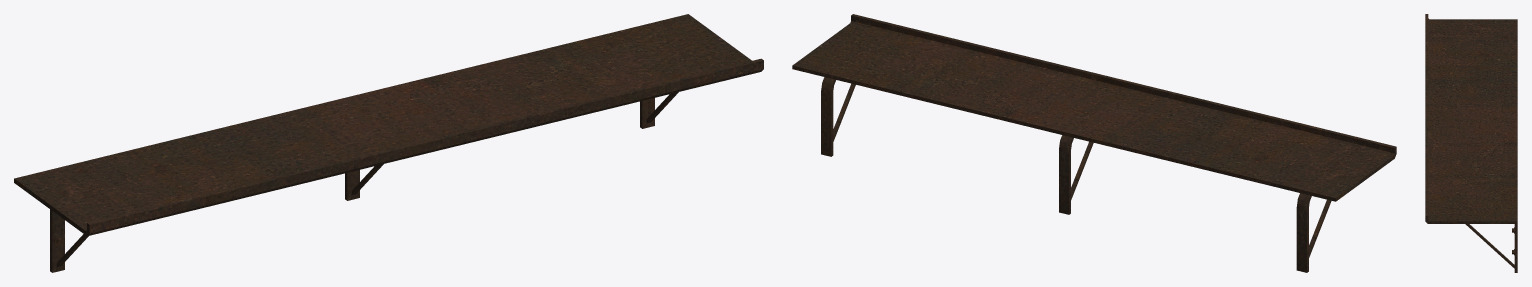
Rendered from hanging_shelf_mx_1_1.glb.
3 views of the same model, side by side, from view 1: azimuth 30°, elevation 25°; view 2: azimuth 150°, elevation 25°; view 3: azimuth 270°, elevation 25° (orthographic). The views are drawn at different scales.
Parts seen in each view (by area): view 1: hanging_shelf_mx_1_1; view 2: hanging_shelf_mx_1_1; view 3: hanging_shelf_mx_1_1.
Part boxes in pixels (left/top/right/bottom): hanging_shelf_mx_1_1: left=14, top=14, right=763, bottom=272; hanging_shelf_mx_1_1: left=792, top=14, right=1396, bottom=272; hanging_shelf_mx_1_1: left=1425, top=14, right=1517, bottom=272.
Size of the model in its own units: 1.6 by 0.25 by 0.31.
1 material, 1 textured.
